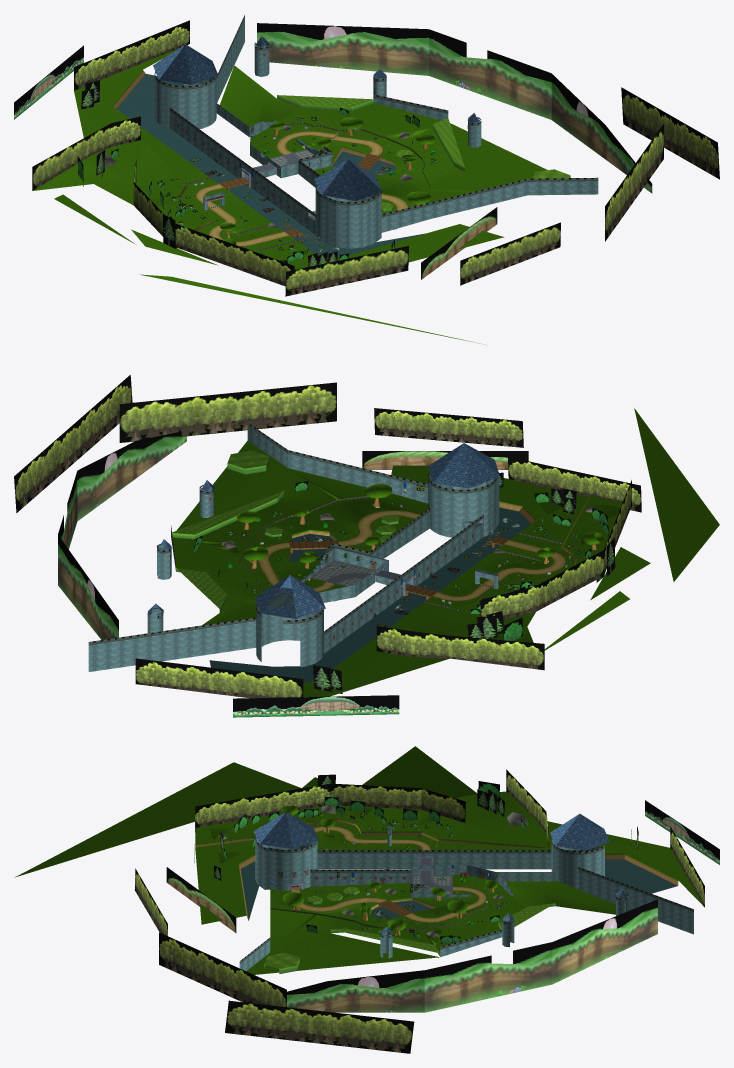
3 views of the same model, one above another, from view 1: azimuth 30°, elevation 25°; view 2: azimuth 150°, elevation 25°; view 3: azimuth 270°, elevation 25° (orthographic). The views are drawn at different scales.
Parts seen in each view (by area): view 1: CTJ1_v8_SKP__Wombocomboachtergrond, CTJ1_v8_SKP__Grass, CTJ1_v8_SKP__Muur, CTJ1_v8_SKP__Water, CTJ1_v8_SKP__Dakpannekes, CTJ1_v8_SKP__Stenen, ID2243, CTJ1_v8_SKP__Groen, CTJ1_v8_SKP__FakeLeaf, CTJ1_v8_SKP__Muurvansteen, CTJ1_v8_SKP__Hout, CTJ1_v8_SKP__Heg; view 2: CTJ1_v8_SKP__Wombocomboachtergrond, CTJ1_v8_SKP__Grass, CTJ1_v8_SKP__Muur, CTJ1_v8_SKP__Water, CTJ1_v8_SKP__Dakpannekes, CTJ1_v8_SKP__Stenen, ID2243, CTJ1_v8_SKP__Groen, CTJ1_v8_SKP__FakeLeaf, CTJ1_v8_SKP__Heg, CTJ1_v8_SKP__Hout, CTJ1_v8_SKP__Weg (+2 smaller); view 3: CTJ1_v8_SKP__Grass, CTJ1_v8_SKP__Wombocomboachtergrond, CTJ1_v8_SKP__Muur, CTJ1_v8_SKP__Dakpannekes, CTJ1_v8_SKP__Stenen, CTJ1_v8_SKP__Water, ID2243, CTJ1_v8_SKP__Muurvansteen, CTJ1_v8_SKP__FakeLeaf, CTJ1_v8_SKP__Groen, CTJ1_v8_SKP__Weg, CTJ1_v8_SKP__Stoneee.
Part boxes in pixels (x1,y1,x2,y2): CTJ1_v8_SKP__Wombocomboachtergrond: [14, 20, 719, 296]; CTJ1_v8_SKP__Grass: [33, 44, 547, 344]; CTJ1_v8_SKP__Muur: [154, 18, 598, 248]; CTJ1_v8_SKP__Water: [116, 74, 424, 255]; CTJ1_v8_SKP__Dakpannekes: [153, 36, 481, 200]; CTJ1_v8_SKP__Stenen: [154, 15, 598, 217]; ID2243: [194, 130, 409, 246]; CTJ1_v8_SKP__Groen: [277, 95, 570, 209]; CTJ1_v8_SKP__FakeLeaf: [77, 107, 419, 263]; CTJ1_v8_SKP__Muurvansteen: [113, 70, 396, 230]; CTJ1_v8_SKP__Hout: [218, 154, 380, 242]; CTJ1_v8_SKP__Heg: [277, 95, 570, 211]; CTJ1_v8_SKP__Wombocomboachtergrond: [14, 375, 641, 717]; CTJ1_v8_SKP__Grass: [173, 408, 719, 696]; CTJ1_v8_SKP__Muur: [88, 426, 499, 671]; CTJ1_v8_SKP__Water: [209, 507, 530, 682]; CTJ1_v8_SKP__Dakpannekes: [148, 443, 499, 618]; CTJ1_v8_SKP__Stenen: [88, 423, 499, 645]; ID2243: [256, 510, 567, 601]; CTJ1_v8_SKP__Groen: [172, 451, 399, 608]; CTJ1_v8_SKP__FakeLeaf: [194, 481, 608, 640]; CTJ1_v8_SKP__Heg: [172, 457, 399, 612]; CTJ1_v8_SKP__Hout: [289, 523, 509, 600]; CTJ1_v8_SKP__Weg: [263, 519, 570, 604]; CTJ1_v8_SKP__Grass: [15, 746, 704, 974]; CTJ1_v8_SKP__Wombocomboachtergrond: [135, 769, 719, 1053]; CTJ1_v8_SKP__Muur: [239, 826, 693, 970]; CTJ1_v8_SKP__Dakpannekes: [253, 812, 628, 935]; CTJ1_v8_SKP__Stenen: [239, 836, 693, 963]; CTJ1_v8_SKP__Water: [240, 859, 677, 920]; ID2243: [289, 825, 488, 922]; CTJ1_v8_SKP__Muurvansteen: [195, 818, 678, 920]; CTJ1_v8_SKP__FakeLeaf: [224, 781, 525, 943]; CTJ1_v8_SKP__Groen: [264, 887, 555, 968]; CTJ1_v8_SKP__Weg: [287, 843, 487, 924]; CTJ1_v8_SKP__Stoneee: [217, 805, 528, 937].
Bounding box in the file's own units: 377867 × 62772 × 447926.
46 materials, 45 textured.
